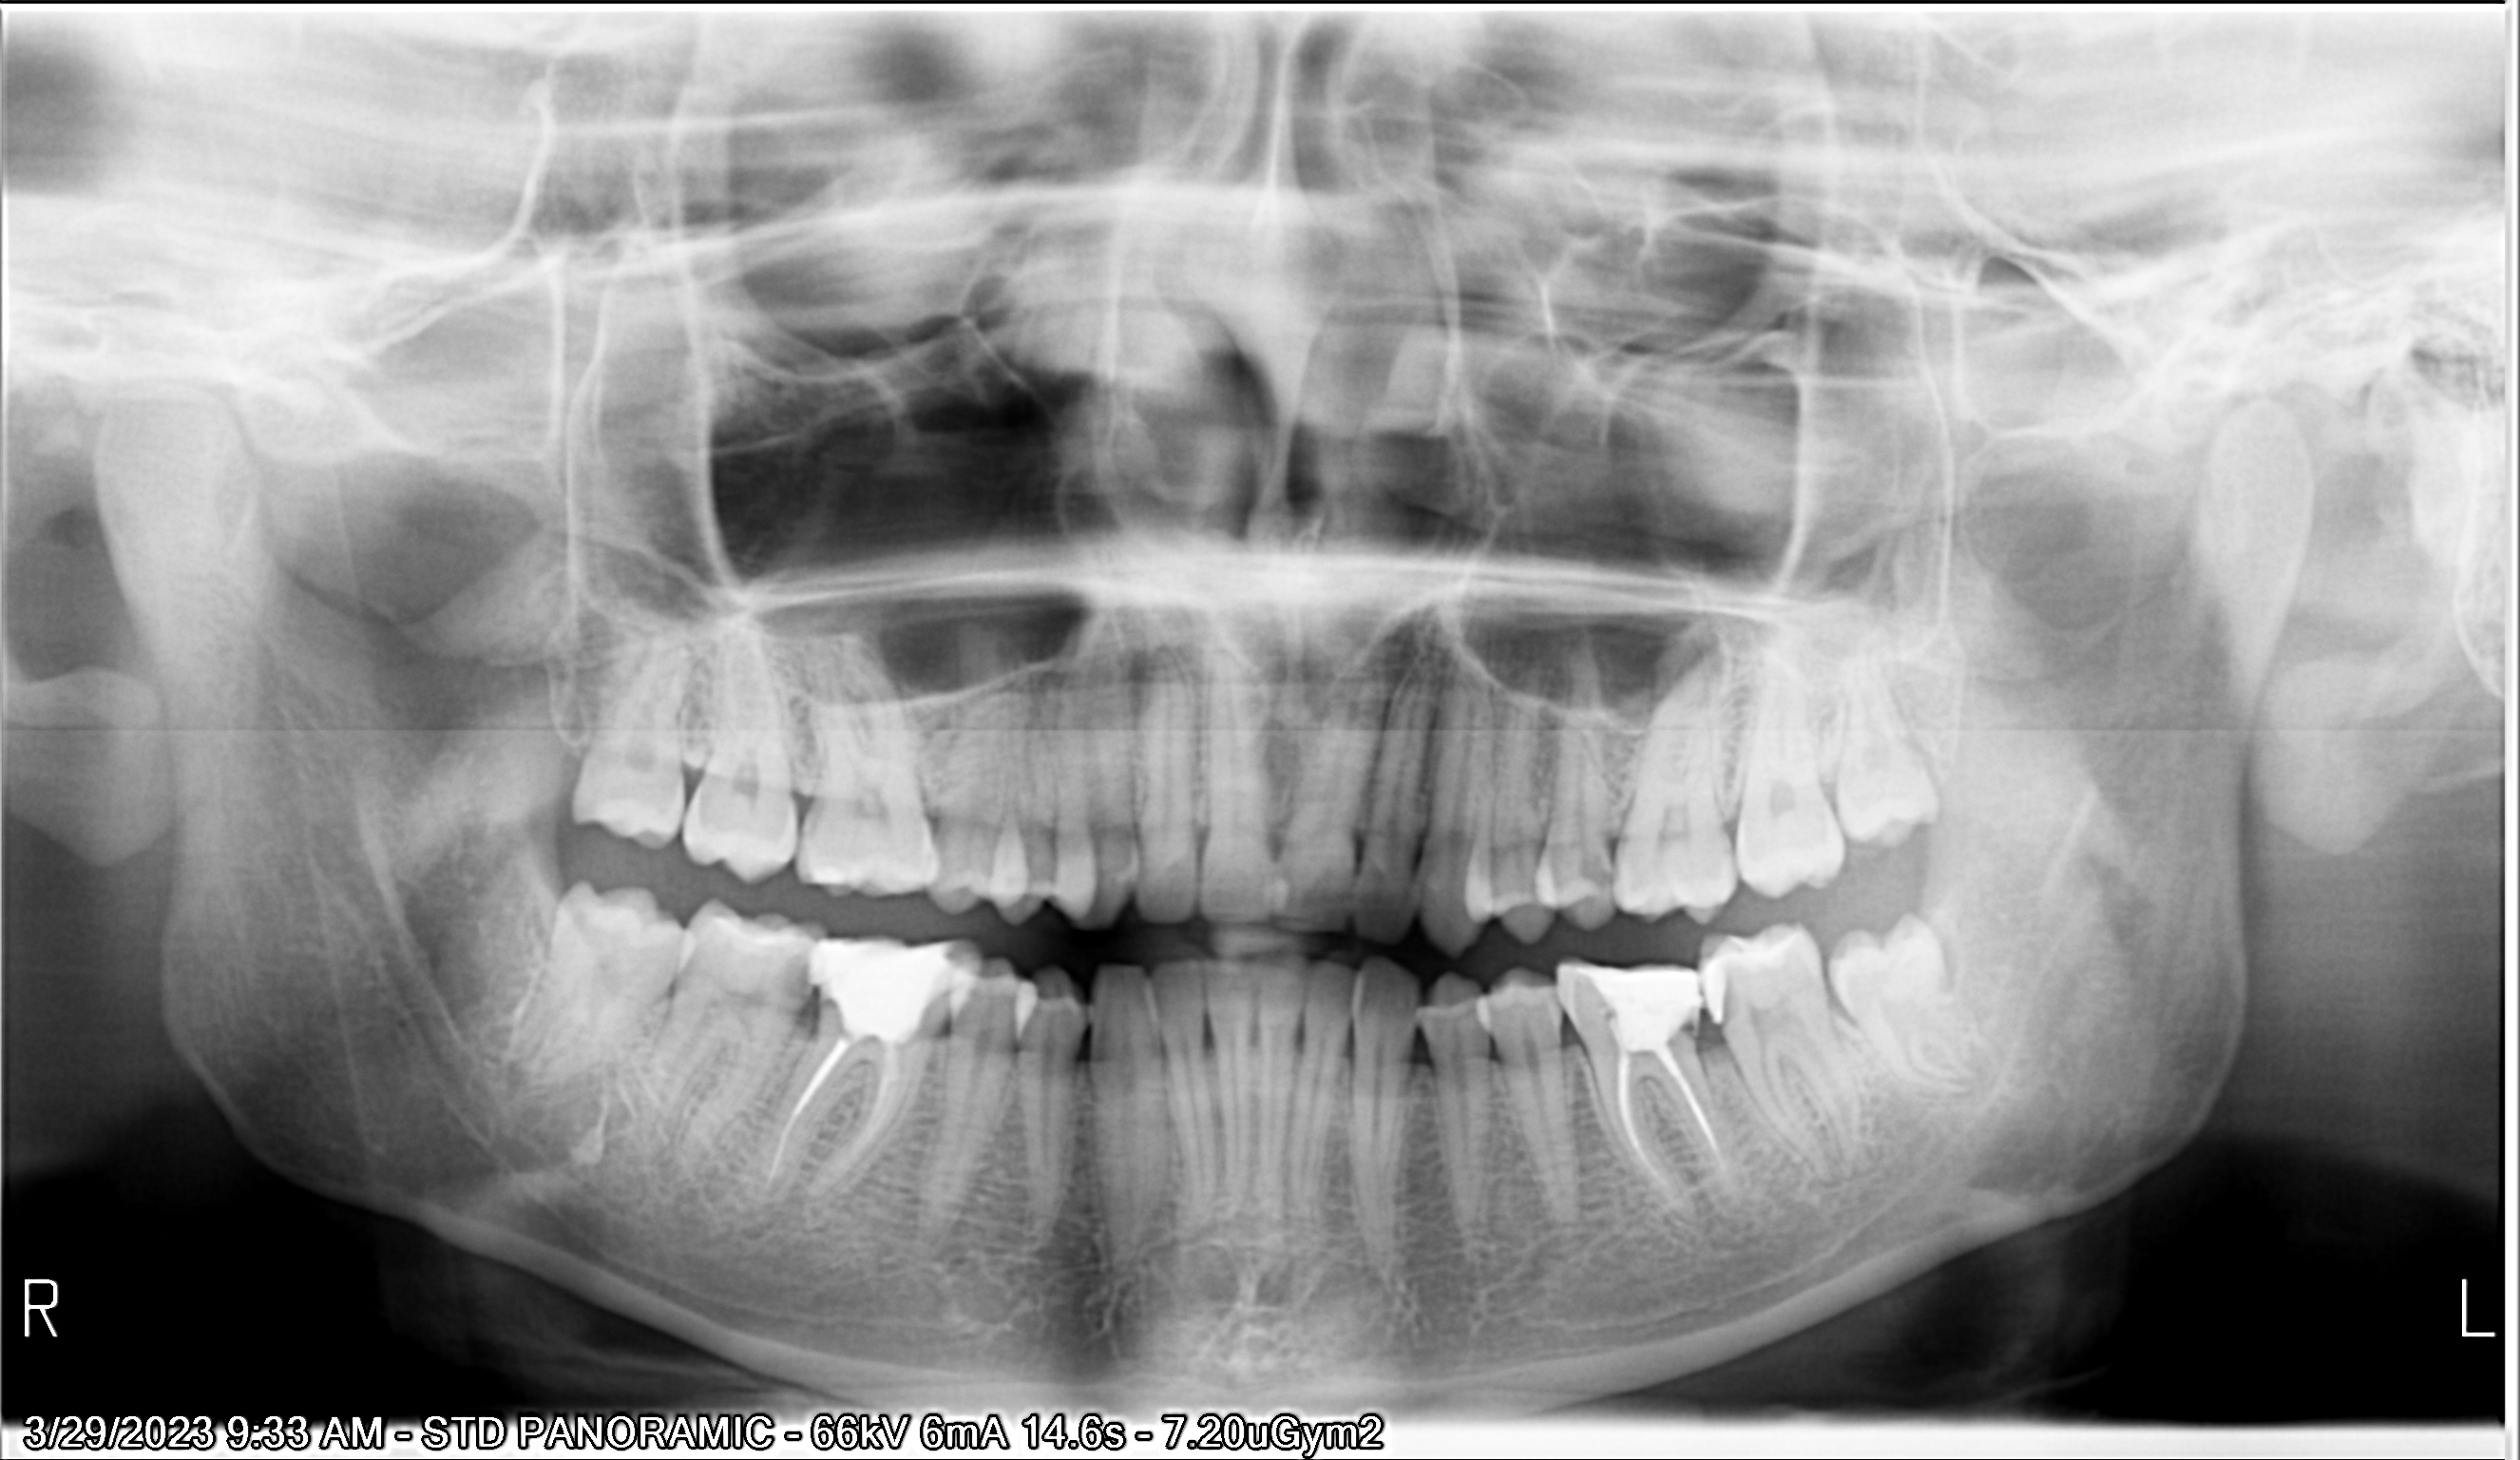API: (1719, 1184, 1806, 1253), (1655, 1192, 1718, 1246)
CAR: (1584, 841, 1622, 909), (778, 949, 809, 1012), (1723, 961, 1740, 1025)
END: (745, 1029, 851, 1201), (821, 1036, 914, 1224), (1606, 1050, 1679, 1192), (1669, 1043, 1752, 1161)
IMT: (485, 871, 696, 1107), (1832, 923, 2011, 1104)
OBT: (809, 937, 947, 1032), (1582, 956, 1678, 1031), (1697, 952, 1719, 1010)
